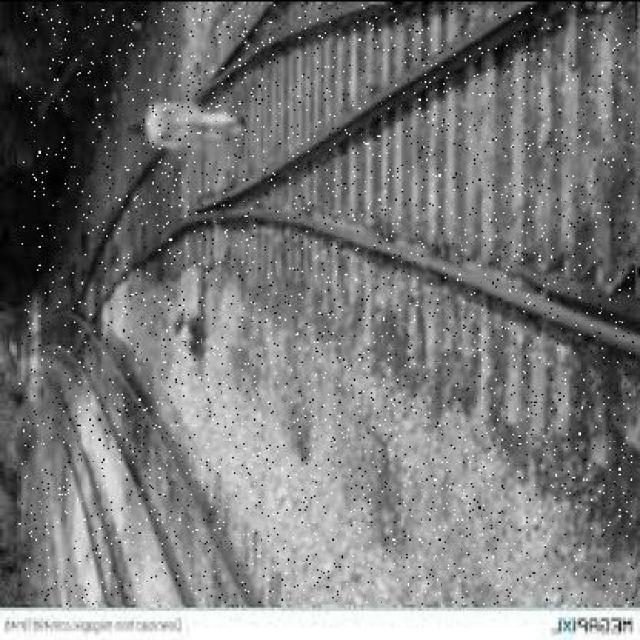danger: (129, 89, 245, 160)
rail: (18, 3, 634, 603)
